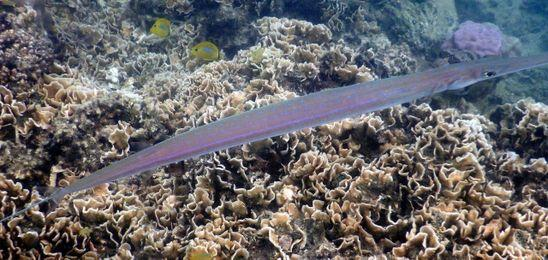Fistularia commersonii: (49, 34, 539, 211)
